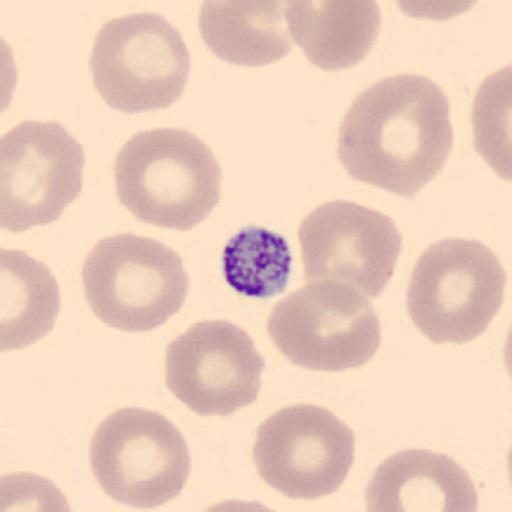Platelet: (218, 223, 295, 300)
RBC: (334, 70, 457, 199), (111, 125, 223, 233), (80, 230, 192, 334), (294, 195, 403, 301), (86, 404, 193, 510), (264, 278, 382, 374), (405, 235, 507, 346), (88, 10, 192, 116), (251, 401, 358, 503), (163, 317, 267, 419), (1, 116, 87, 235), (363, 444, 480, 512), (283, 0, 383, 73), (196, 0, 296, 69), (2, 247, 62, 352), (471, 61, 512, 184), (1, 469, 73, 512), (391, 0, 491, 23), (186, 495, 300, 512), (0, 32, 20, 116)
